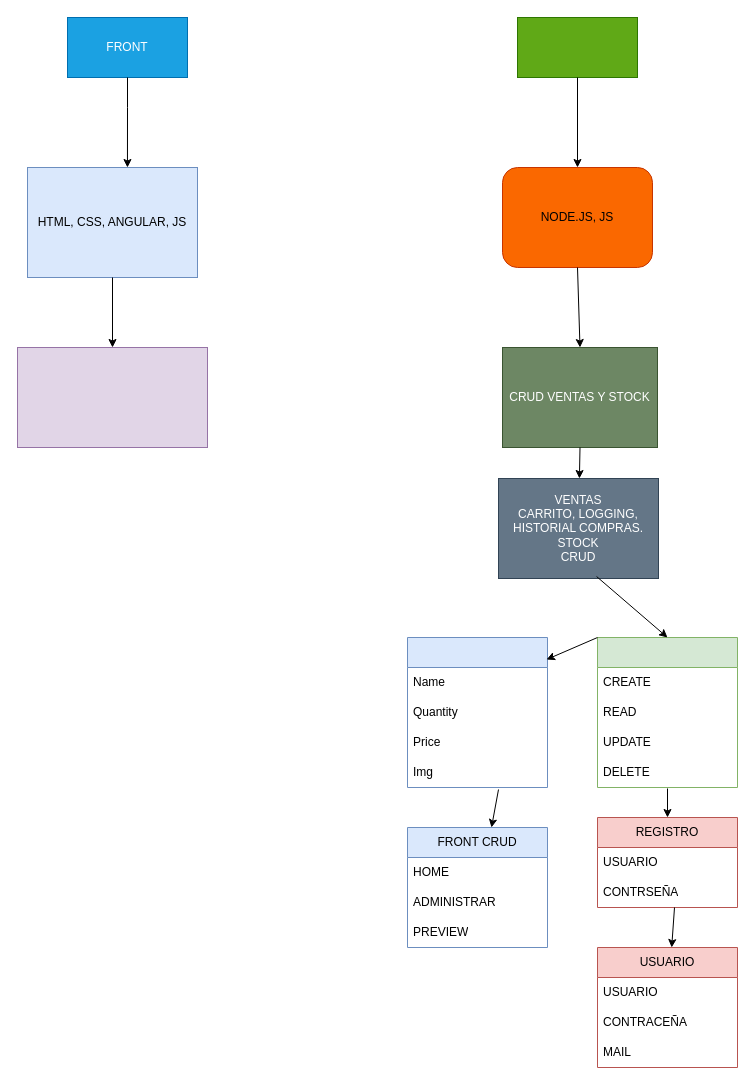
Some shapes in this 755 by 1085 pixel diagram are drawn without their labels. The box of each missing label's shape, as (x1, y1, x2, y2) in pixels:
BACK: (516, 16, 638, 78)
CRUD: (596, 636, 738, 788)
propiedades Product: (406, 636, 548, 788)
WEB CV: (16, 346, 208, 448)
